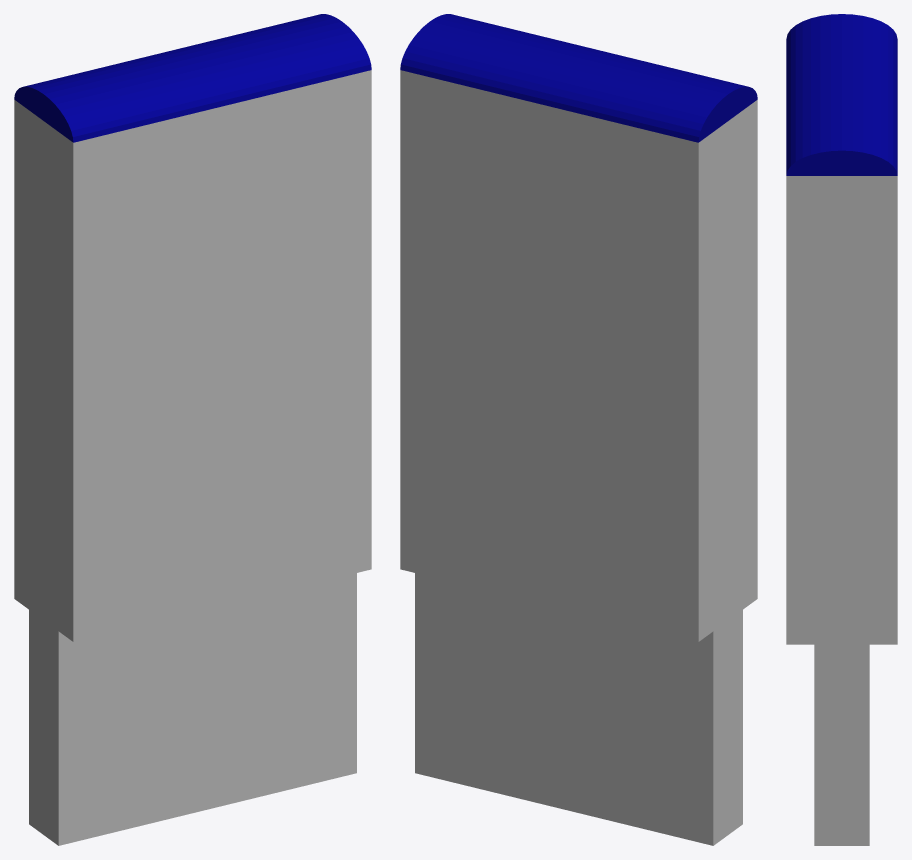
The model's file is body_r_distal_springvround.obj.
3 renders of one model, left to right at view 1: azimuth 30°, elevation 25°; view 2: azimuth 150°, elevation 25°; view 3: azimuth 270°, elevation 25°, orthographic. The views are drawn at different scales.
Visible parts, largest first — view 1: body_r_distal_springvround_Cube.006; view 2: body_r_distal_springvround_Cube.006; view 3: body_r_distal_springvround_Cube.006.
Part boxes in pixels (bbox=[...]): body_r_distal_springvround_Cube.006: bbox=[14, 14, 371, 845]; body_r_distal_springvround_Cube.006: bbox=[400, 14, 757, 845]; body_r_distal_springvround_Cube.006: bbox=[786, 14, 897, 845].
Bounding box in the file's own units: 0.032 × 0.0759 × 0.011.
